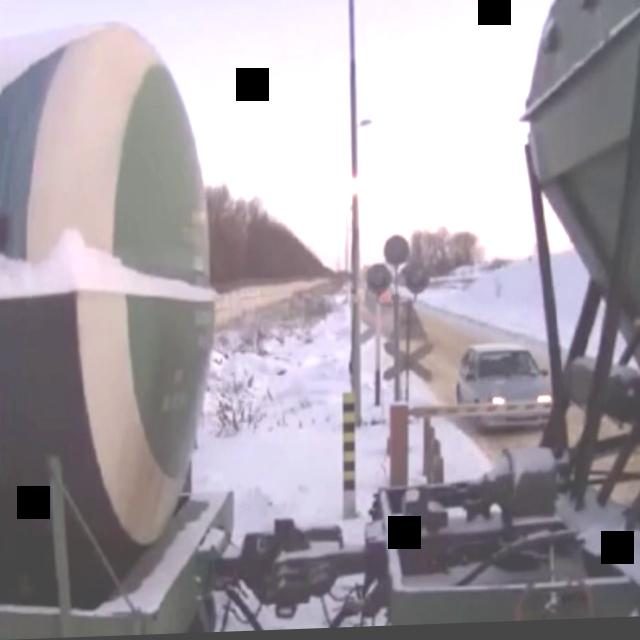hopper: (352, 0, 640, 630)
tank: (0, 0, 258, 640)
